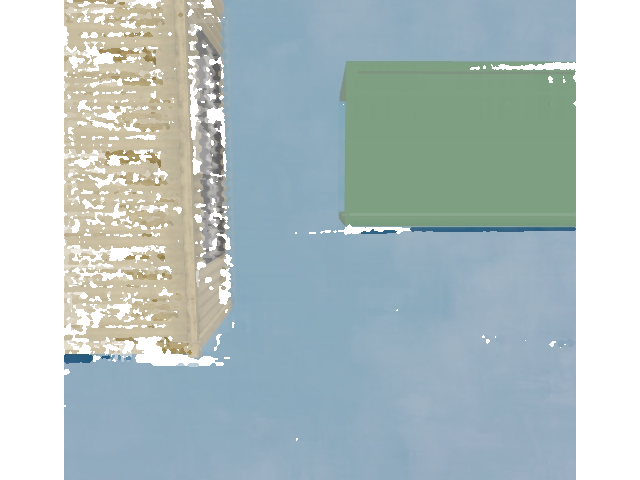container2: (338, 55, 640, 229)
container3: (0, 0, 234, 362)
